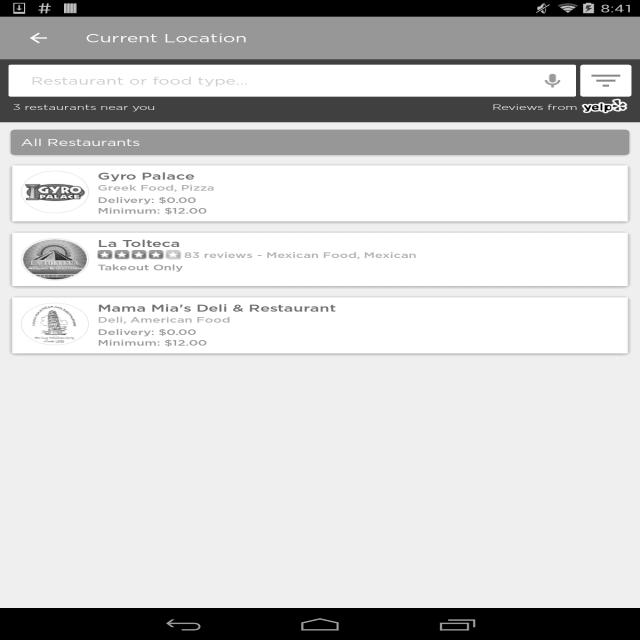EditText: (9, 65, 576, 96), (85, 22, 623, 54)
ImageButton: (9, 17, 68, 59), (580, 65, 632, 96)
ImageView: (21, 238, 89, 281), (21, 171, 89, 213), (21, 303, 89, 345), (529, 66, 576, 95), (582, 97, 627, 122), (97, 250, 182, 261)
TextView: (98, 205, 619, 216), (98, 262, 619, 273), (98, 337, 619, 348), (98, 195, 619, 205), (98, 327, 619, 337), (0, 97, 168, 117), (98, 301, 336, 315), (492, 97, 578, 117), (253, 250, 417, 260), (97, 314, 230, 326), (21, 136, 140, 149), (98, 182, 215, 194), (98, 169, 194, 183), (98, 237, 180, 250), (182, 250, 253, 260)
